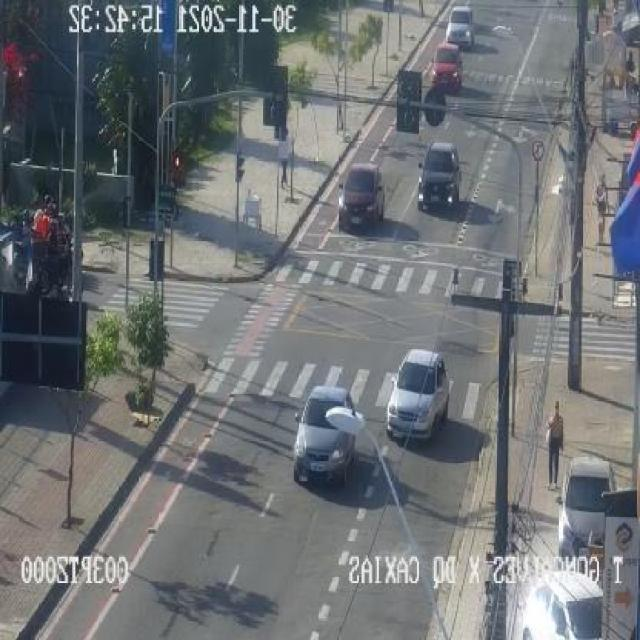car: (554, 456, 616, 561), (290, 386, 356, 484), (384, 346, 450, 442), (520, 568, 605, 640), (416, 143, 462, 212), (339, 162, 384, 228), (431, 42, 462, 90), (444, 6, 476, 46)
motorbike: (28, 218, 74, 293), (544, 398, 566, 490), (595, 171, 611, 244), (278, 130, 291, 188)
